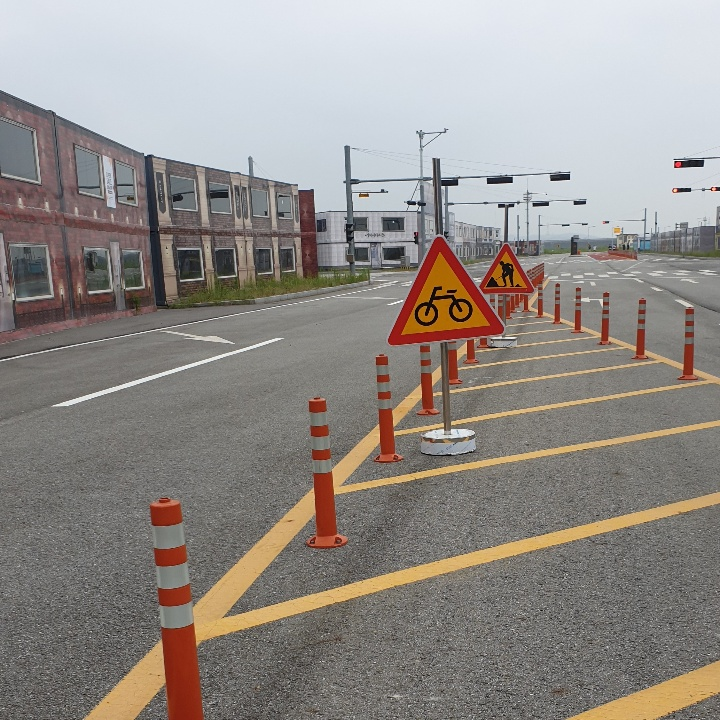bicycle: (387, 234, 506, 346)
const: (487, 256, 524, 290)
